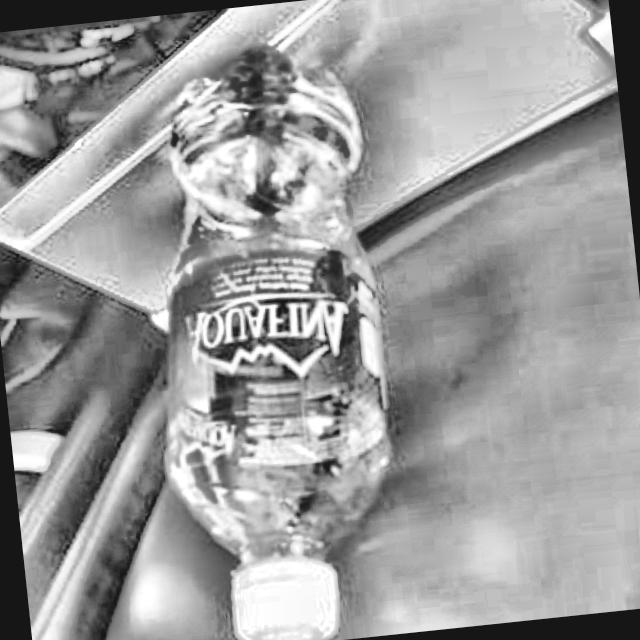waterbottle: (110, 22, 423, 640)
